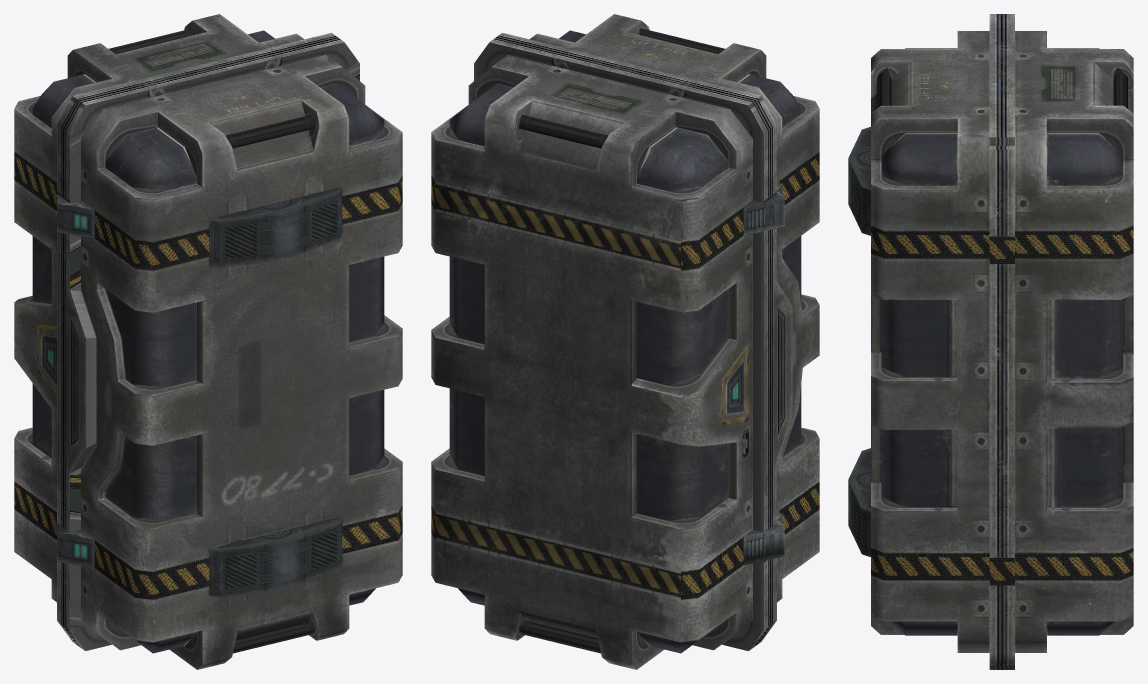
Rendered from t6_wpn_supply_drop_hq_LOD1.obj.
3 renders of one model, left to right at view 1: azimuth 30°, elevation 25°; view 2: azimuth 150°, elevation 25°; view 3: azimuth 270°, elevation 25°, orthographic. The views are drawn at different scales.
Visible parts, largest first — view 1: mtl_t6_wpn_supply_drop_hq; view 2: mtl_t6_wpn_supply_drop_hq; view 3: mtl_t6_wpn_supply_drop_hq.
Boxes of the visible parts, <box> form: mtl_t6_wpn_supply_drop_hq: <box>14,14,402,669</box>; mtl_t6_wpn_supply_drop_hq: <box>431,14,819,669</box>; mtl_t6_wpn_supply_drop_hq: <box>848,14,1133,669</box>.
Size of the model in its own units: 107 by 187 by 90.68.
